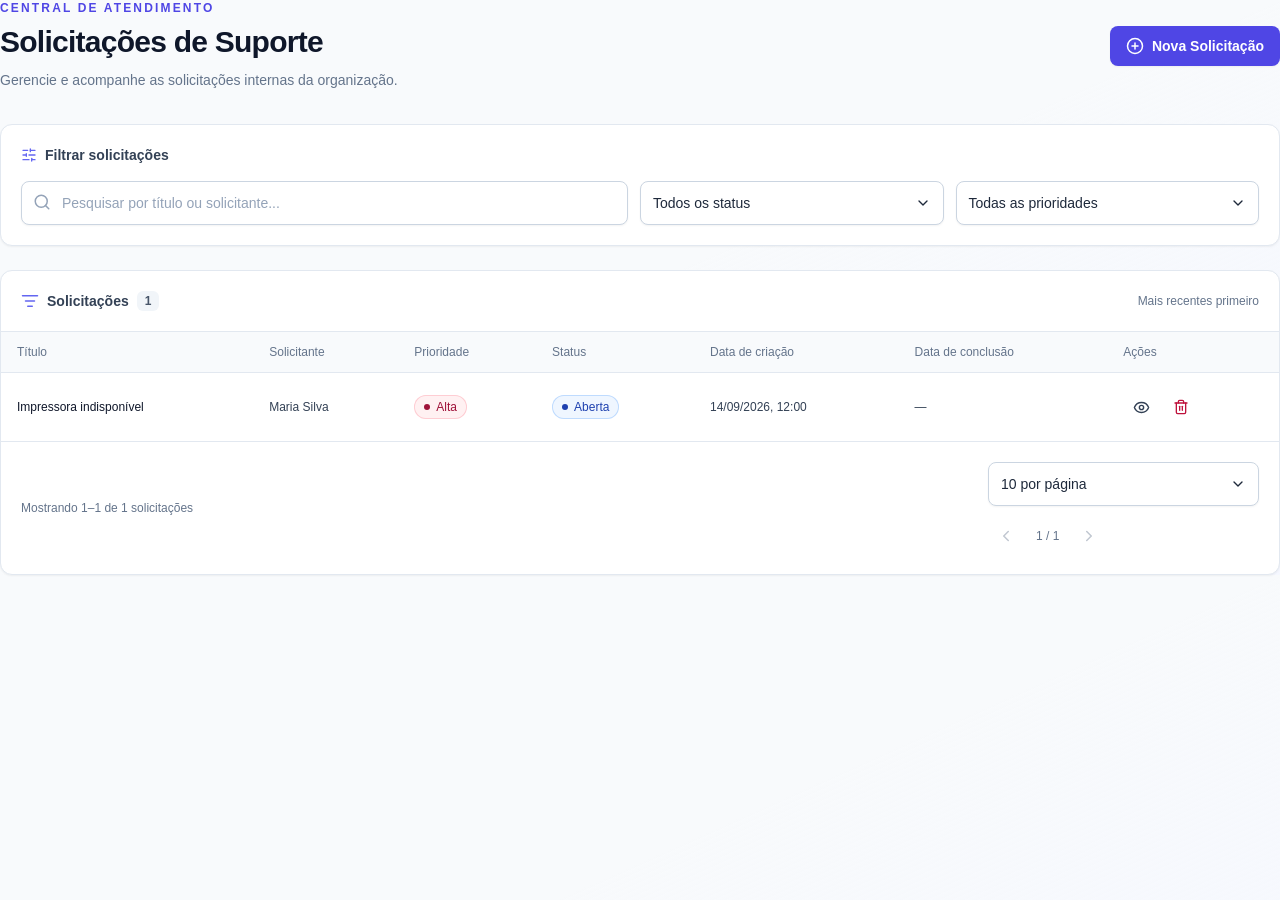
Test: valida o formulário, cria uma vez e atualiza a listagem
The width and height of the screenshot is (1280, 900).
Click the button "Nova Solicitação" at [1195, 46], box [1110, 26, 1279, 66]
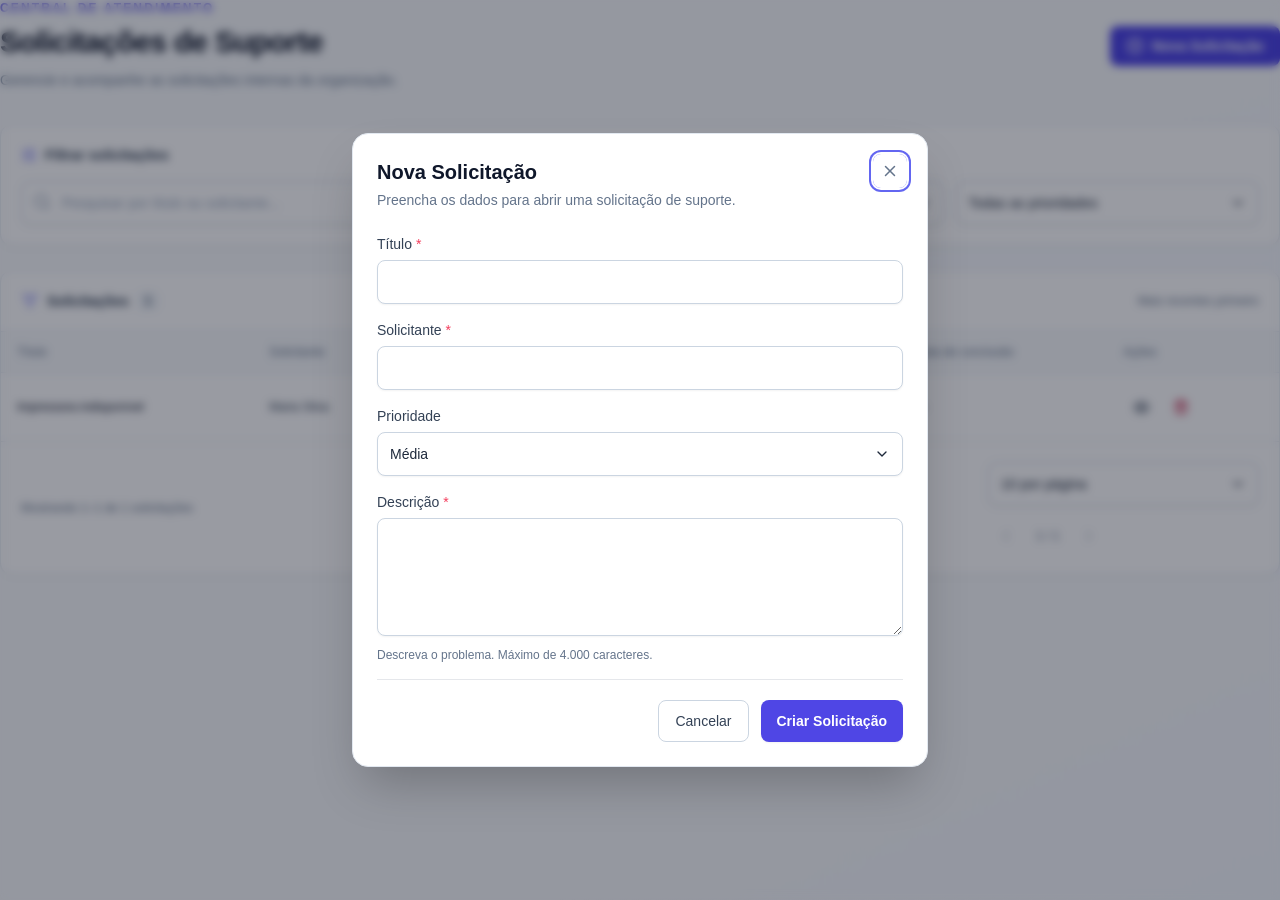
Click the button "Criar Solicitação" at [832, 721], box [760, 700, 903, 742]
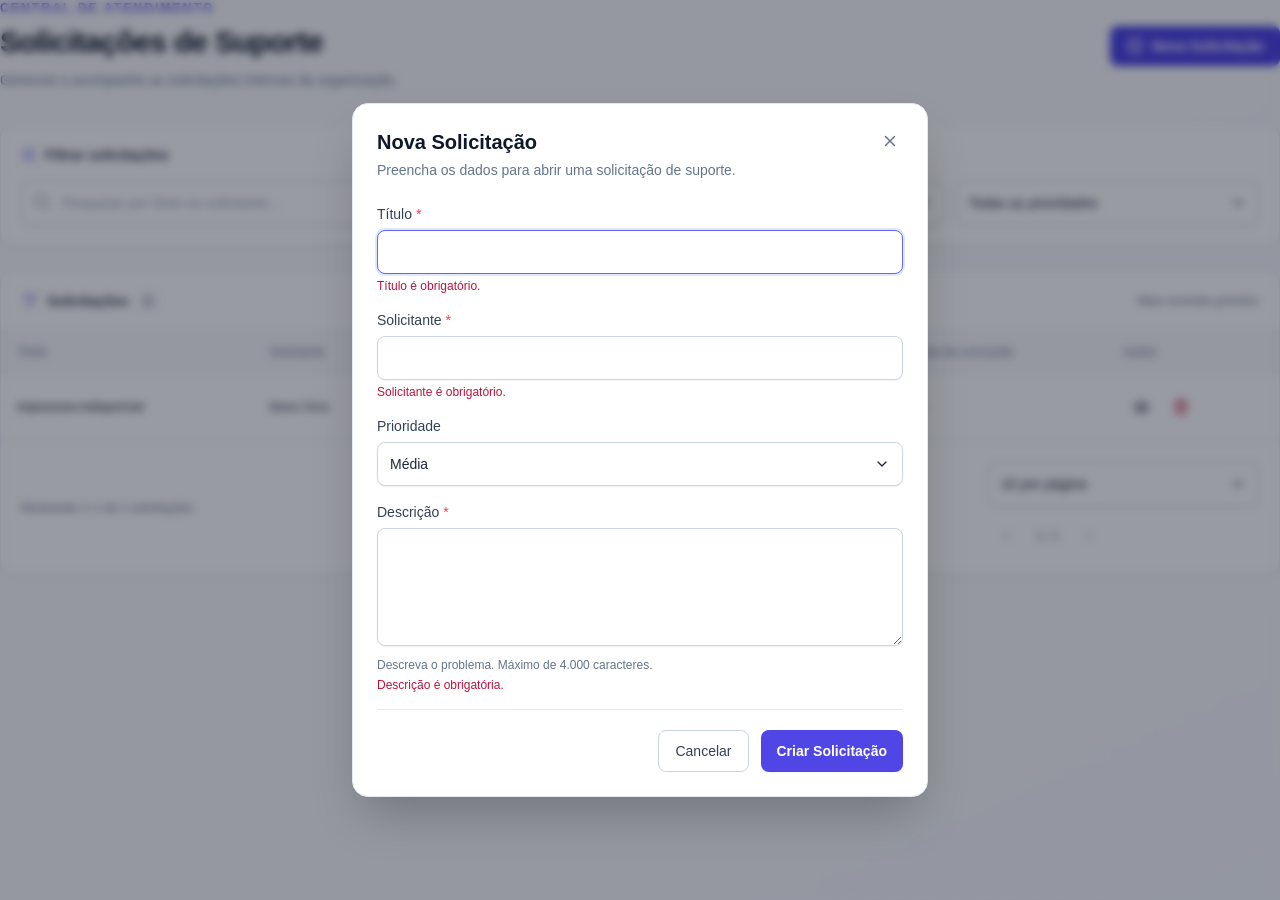
Now the text "Título é obrigatório." is shown, box [377, 279, 480, 293]
Type "Falha na rede" into the field labelled "Título *" at [640, 252], box [377, 230, 903, 274]
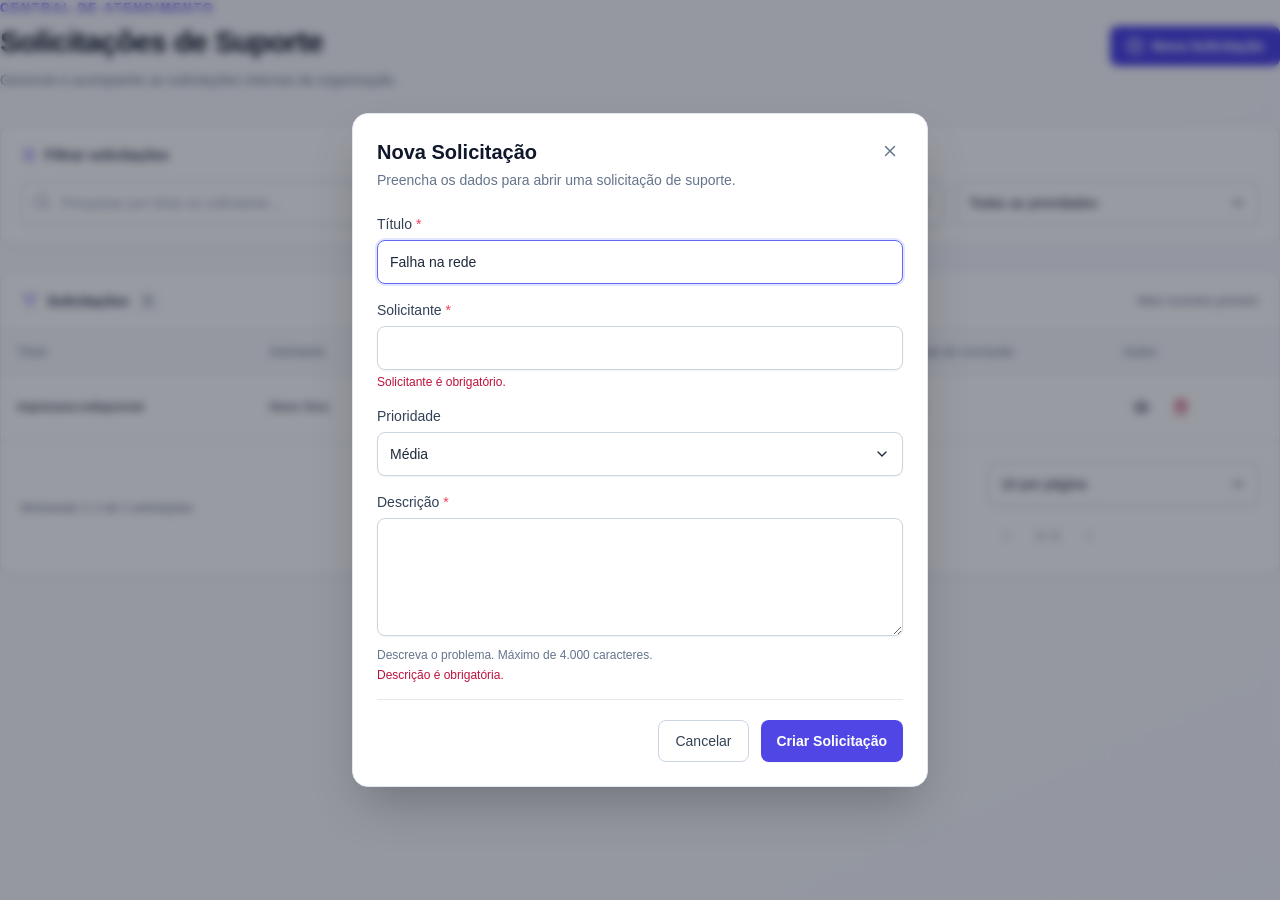
Type "João" into the field labelled "Solicitante *" at [640, 348], box [377, 326, 903, 370]
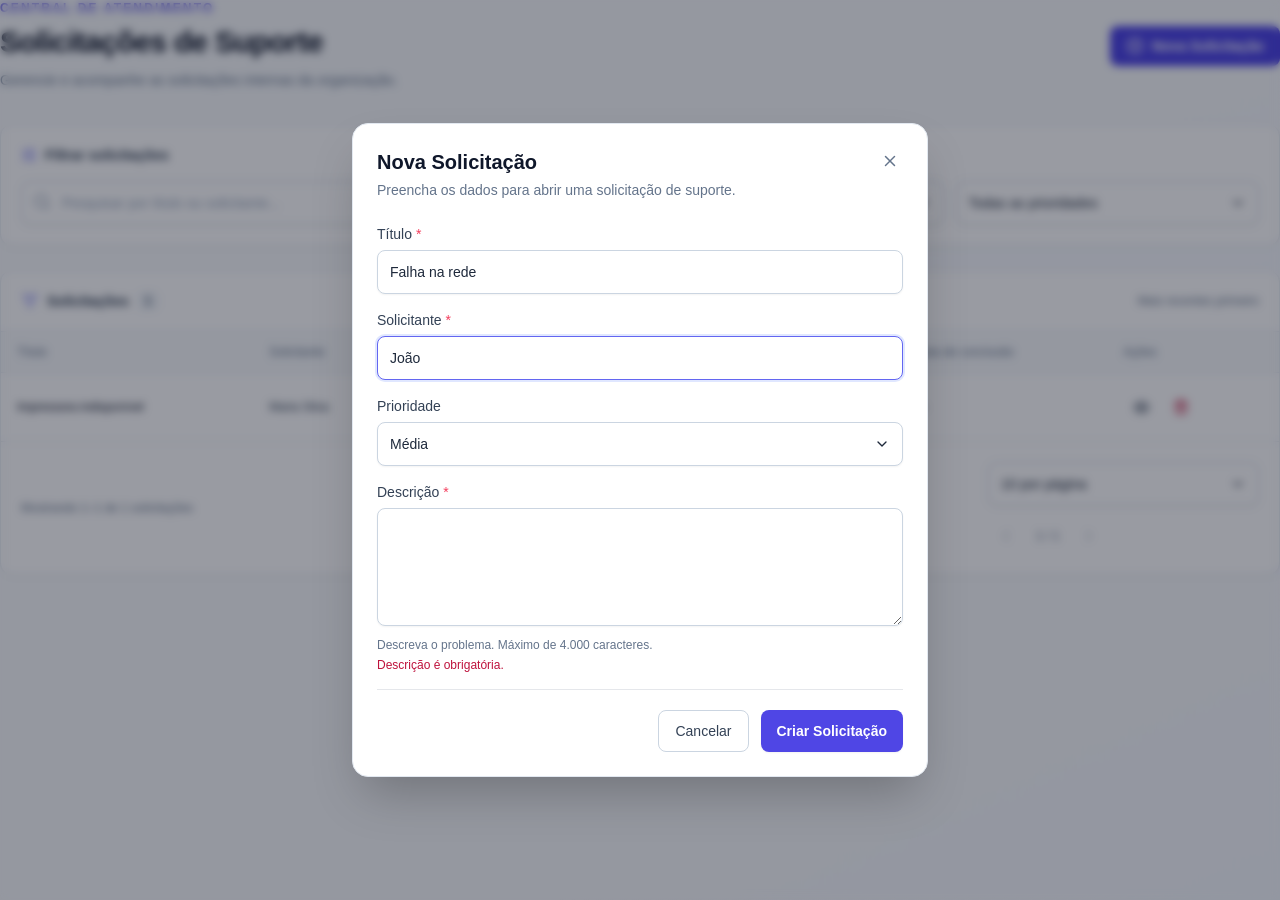
Type "Sem conexão na sala." into the text box labelled "Descrição *" at [640, 567], box [377, 508, 903, 626]
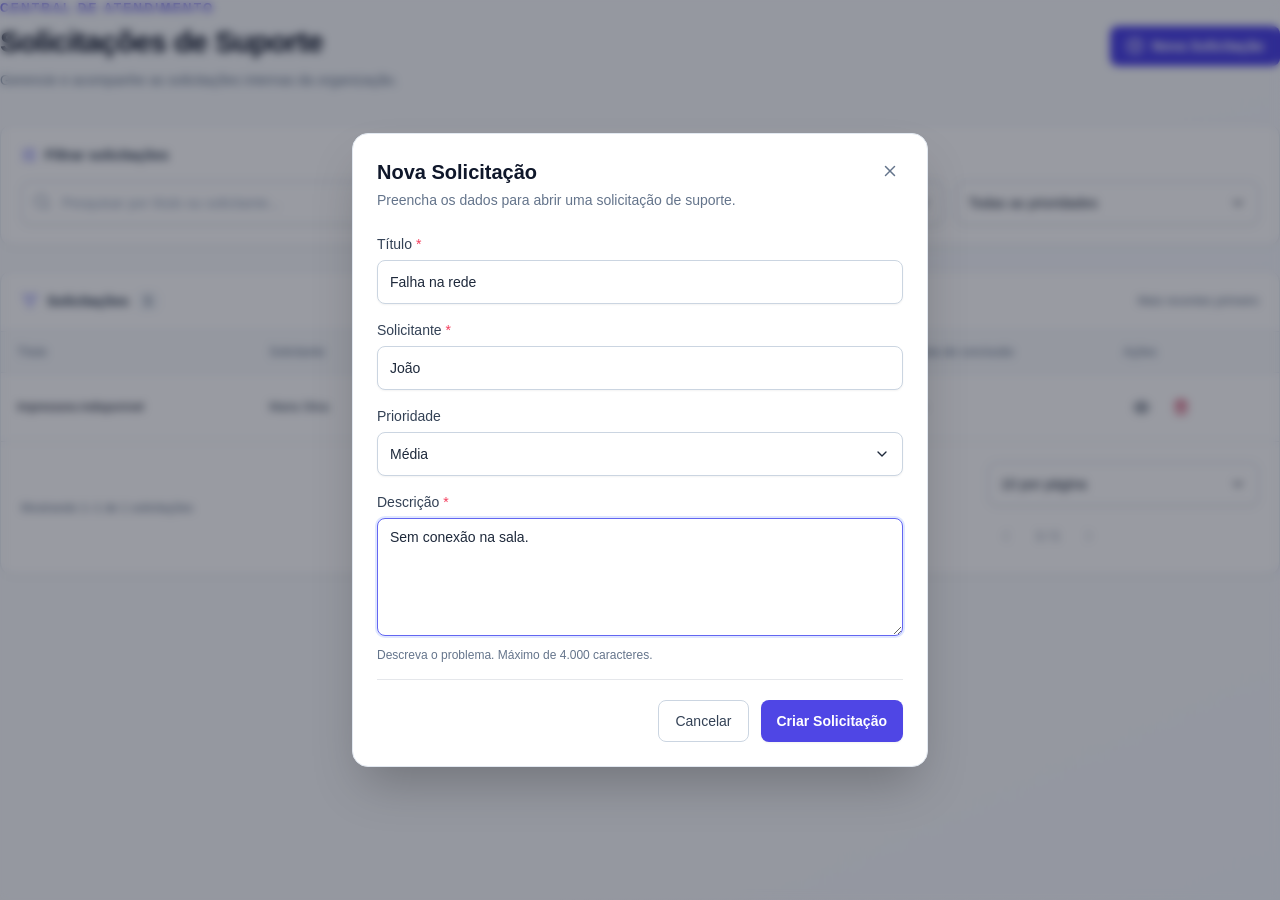
Click the button "Criar Solicitação" at [832, 721], box [760, 700, 903, 742]
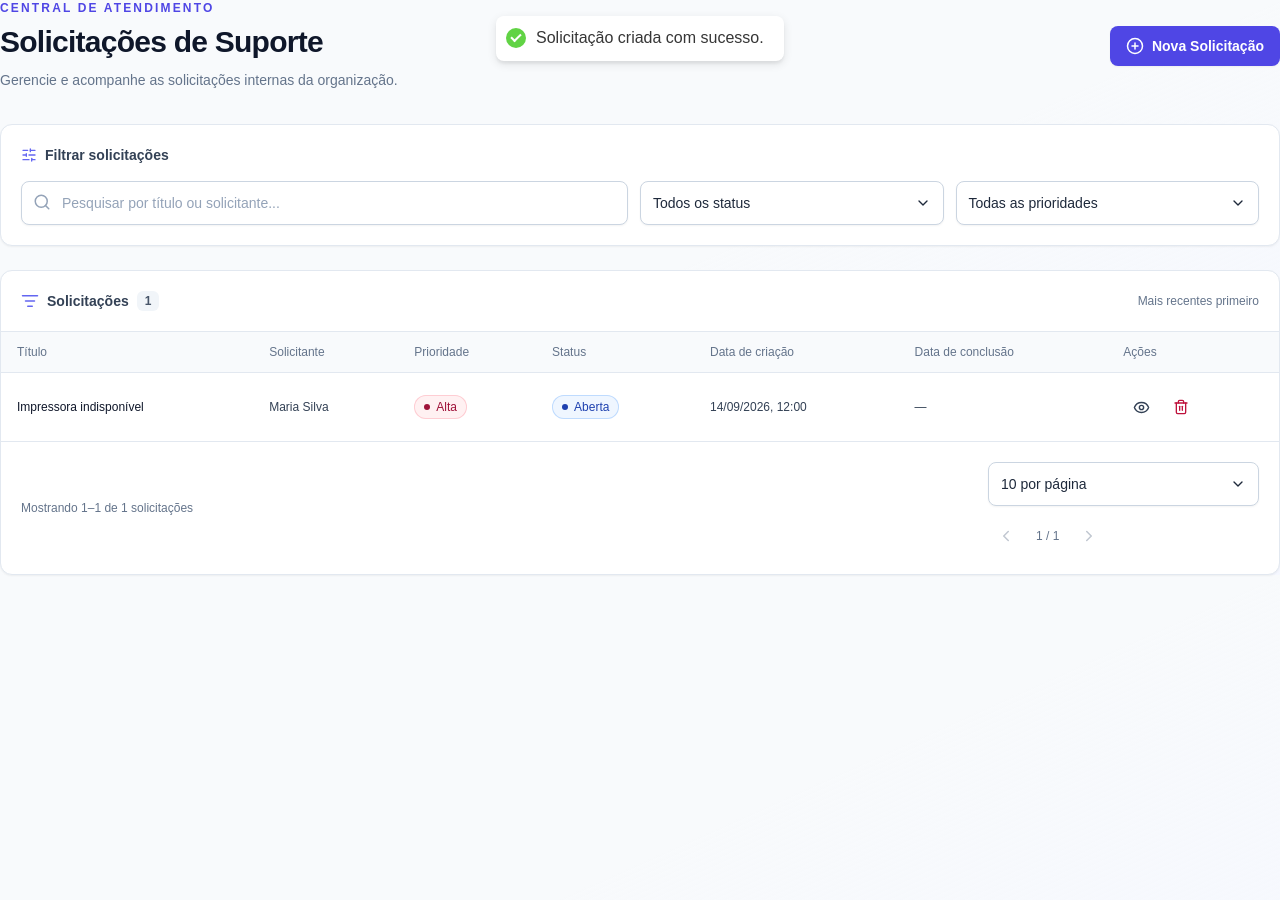
Now the dialog is gone
